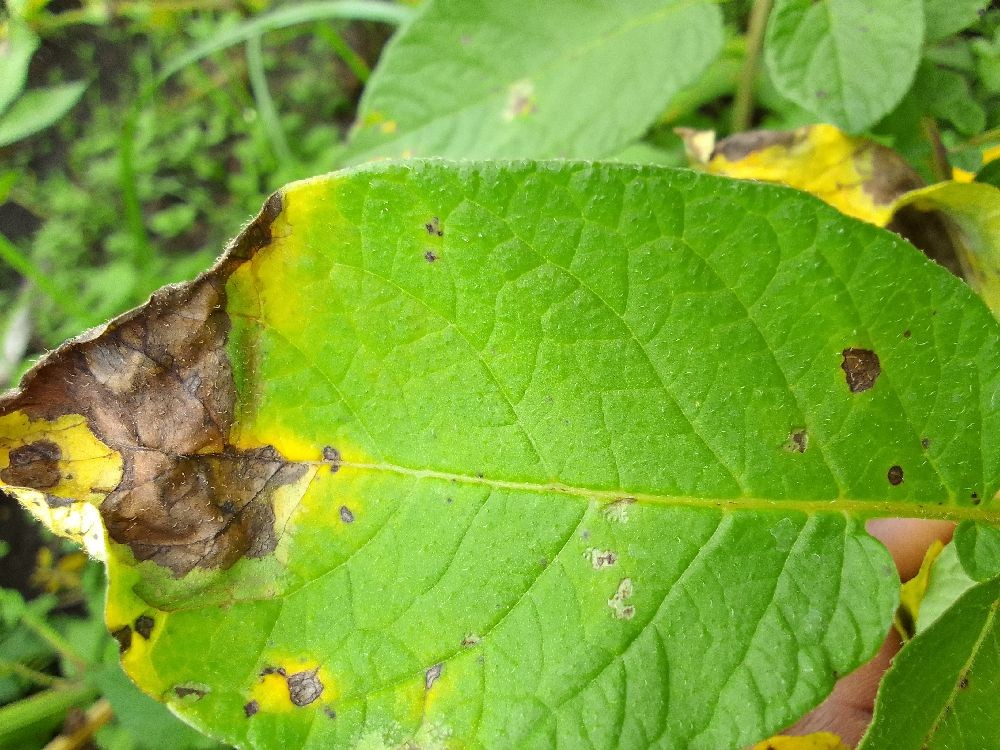late_blight: (0, 177, 359, 595), (794, 98, 993, 299), (0, 0, 189, 210), (250, 4, 411, 156)
